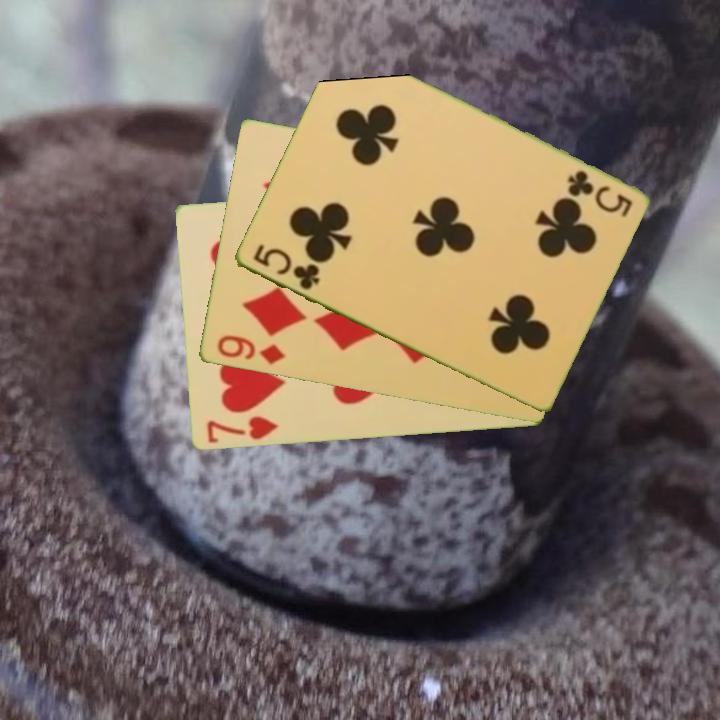5c: (249, 240, 323, 293), (563, 167, 635, 220)
7h: (203, 413, 280, 447)
9d: (213, 332, 287, 368)
